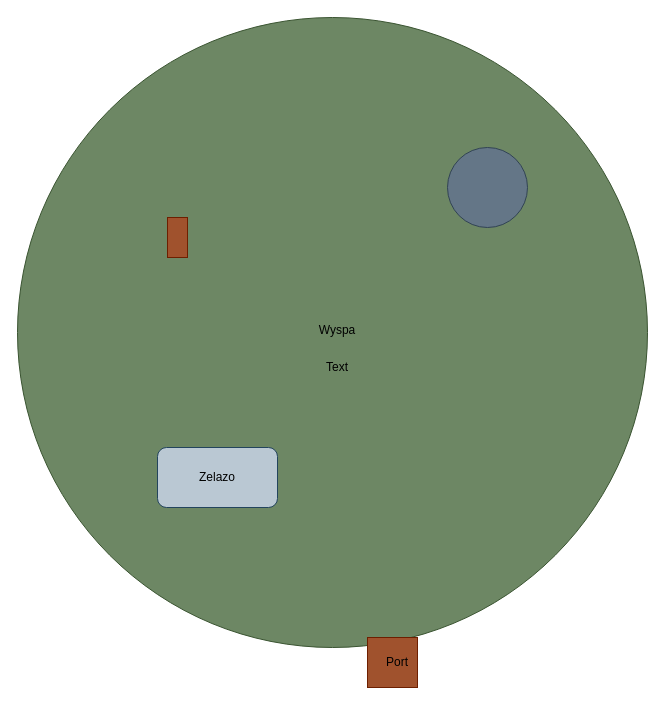
Some shapes in this 665 by 705 pixel diagram are drawn without their labels. The box of each missing label's shape, as (x1, y1, x2, y2) in pixels:
Drzewo: (166, 216, 188, 258)
Kamien: (446, 146, 528, 228)
